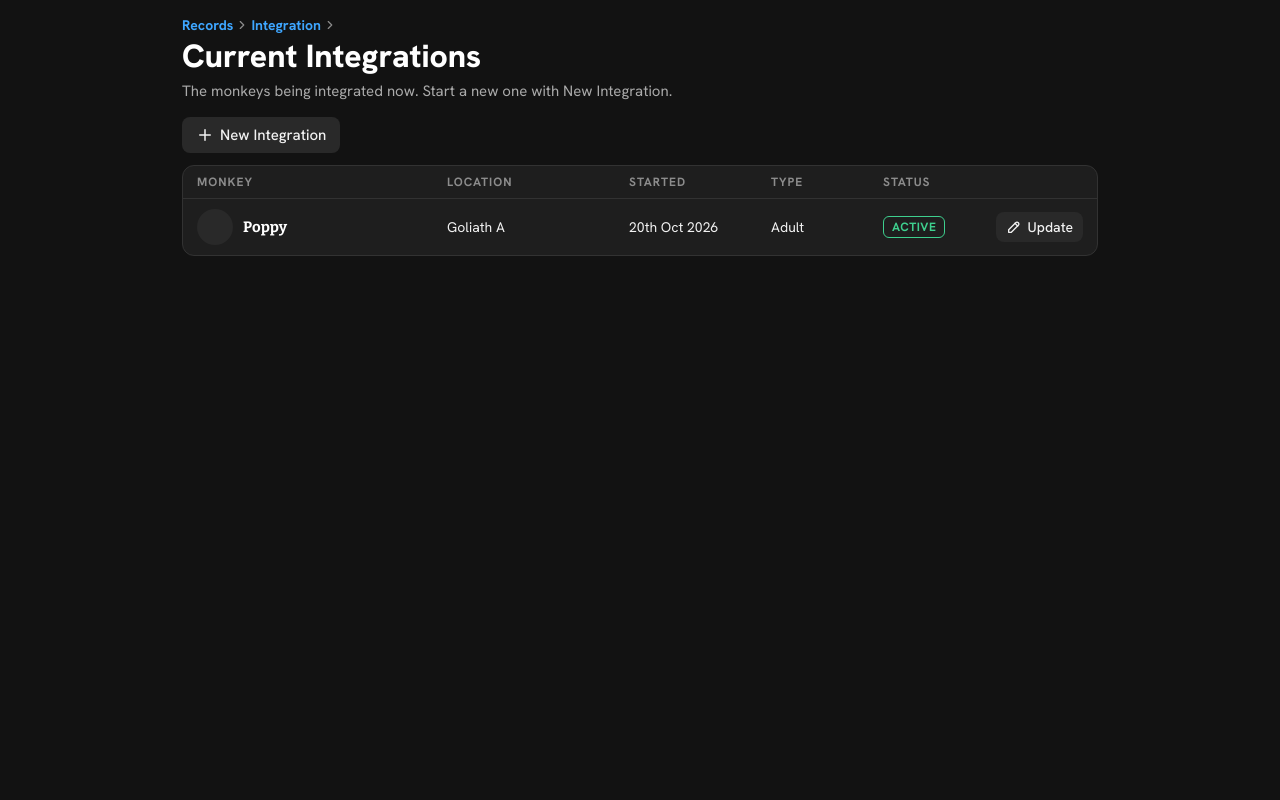
Test case: Current Integrations › Update → On Hold: asks first, then stays in the list as ON HOLD
Click the button with aria-label "Update, Poppy".
click(1039, 227)  # box [996,212,1083,242]
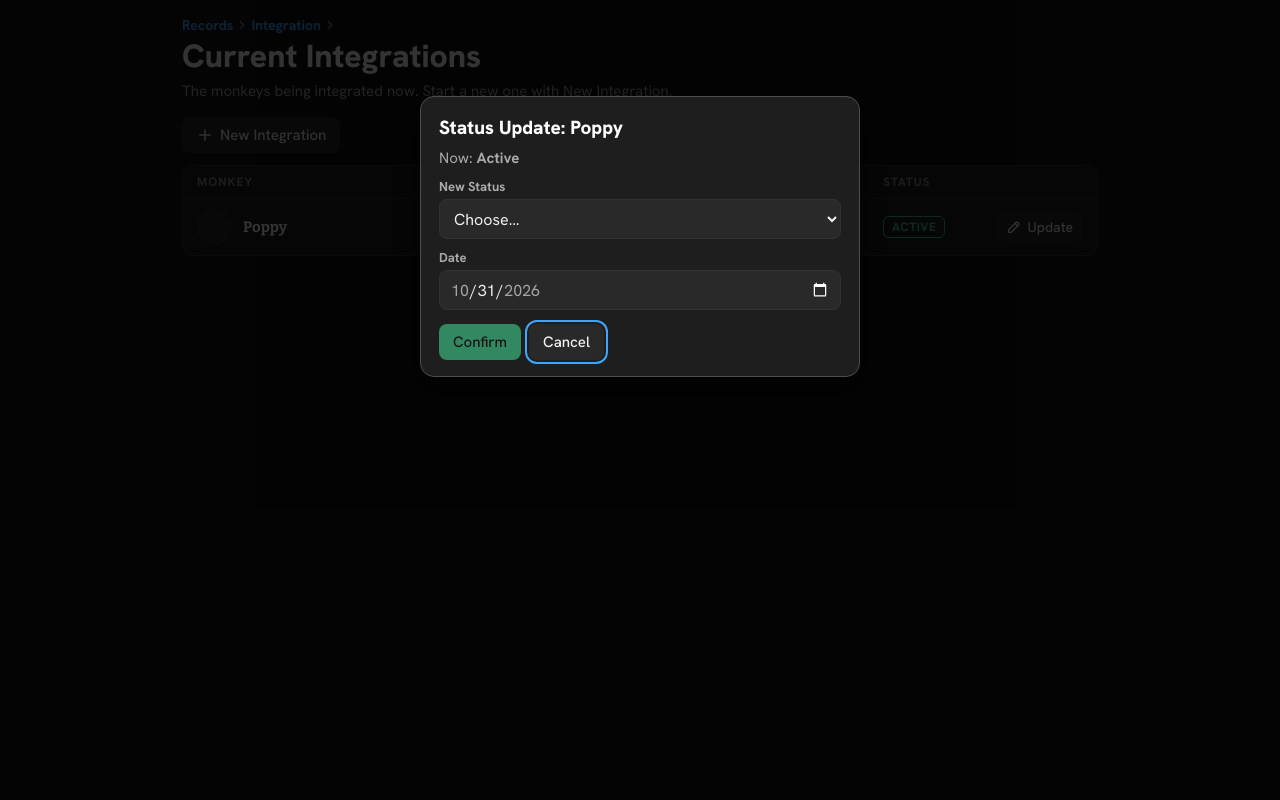
Check: the button "Confirm" is disabled, box [439,324,521,360]
Select "On Hold" in the dropdown labelled "New Status" at [640, 219], box [439,199,841,239]
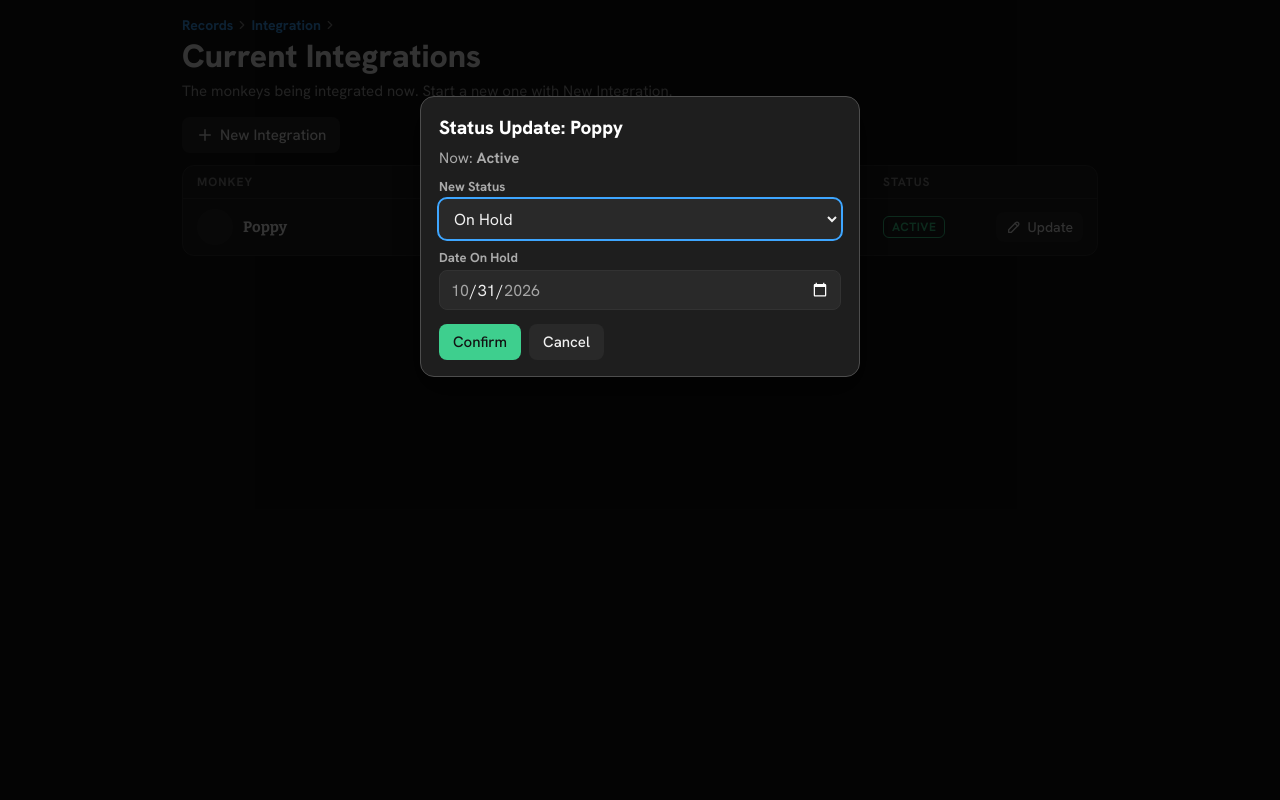
Type "2026-10-26" into the date field labelled "Date On Hold".
click(640, 290); type("2026-10-26")  # box [439,270,841,310]
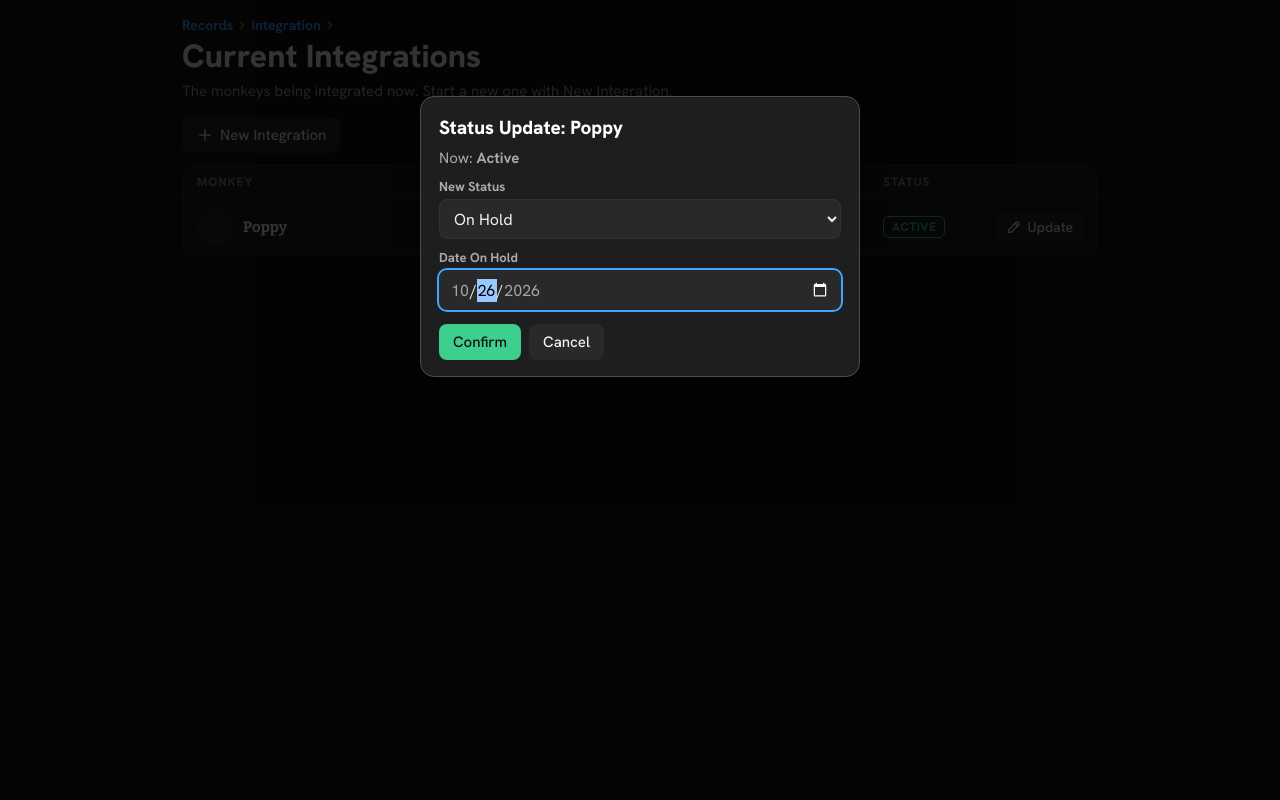
Click the button "Confirm".
click(480, 342)  # box [439,324,521,360]
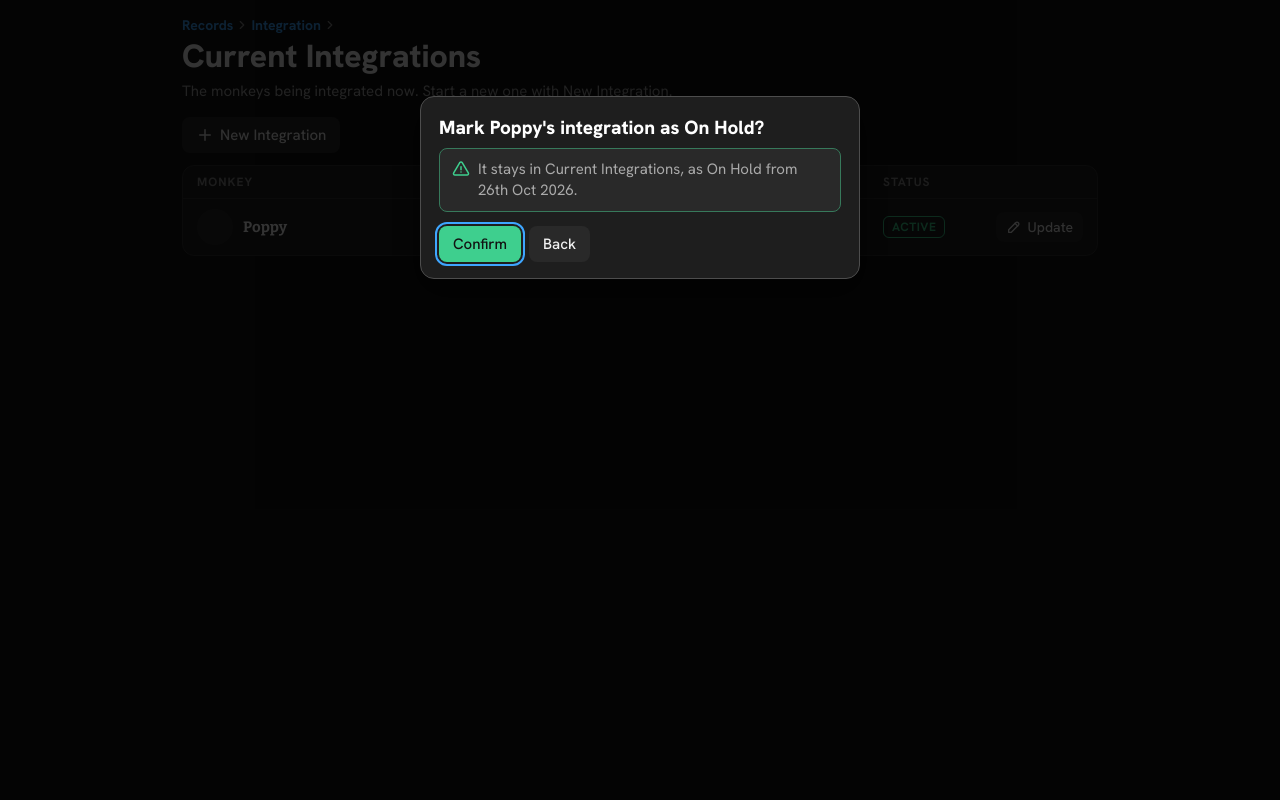
Check: the dialog "Mark Poppy's integration as On Hold?" shows "stays in Current Integrations, as On Hold from 26th Oct 2026", box [478,159,798,200]
Click the button "Confirm".
click(480, 244)  # box [439,226,521,262]
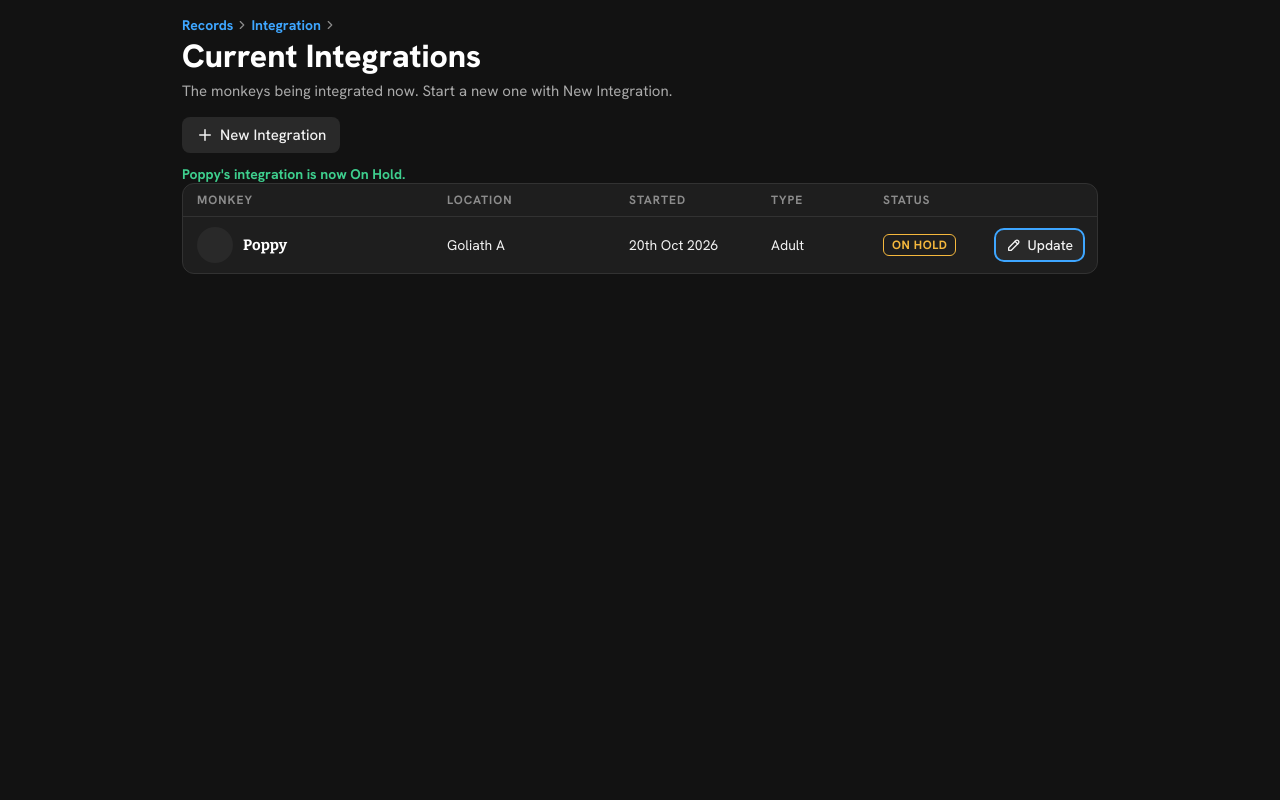
Check: the text "Poppy's integration is now On Hold." is shown, box [182,165,405,183]
Check: the dialog is gone
